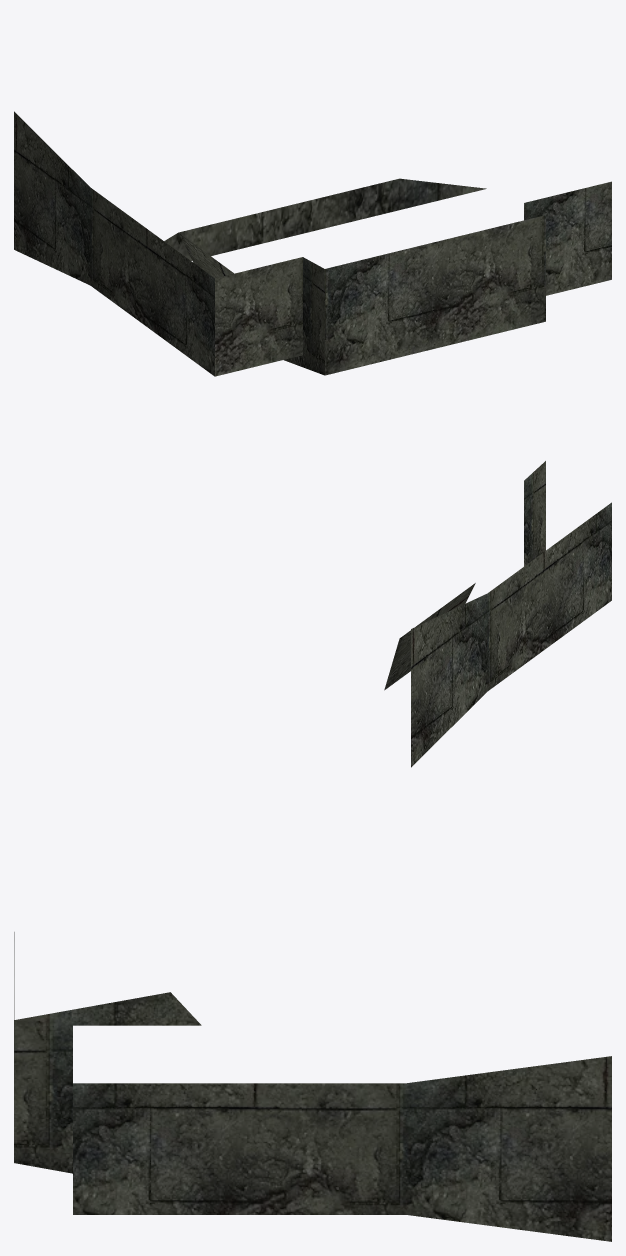
3 renders of one model, top to bottom at view 1: azimuth 30°, elevation 25°; view 2: azimuth 150°, elevation 25°; view 3: azimuth 270°, elevation 25°, orthographic. The views are drawn at different scales.
Visible parts, largest first — view 1: model_Object51; view 2: model_Object51; view 3: model_Object51.
Part boxes in pixels (box(x1,y1,x2,y2)): model_Object51: box(14, 111, 611, 376); model_Object51: box(384, 461, 611, 767); model_Object51: box(14, 932, 611, 1241).
Size of the model in its own units: 3 by 1.12 by 2.92.
1 material, 1 textured.
